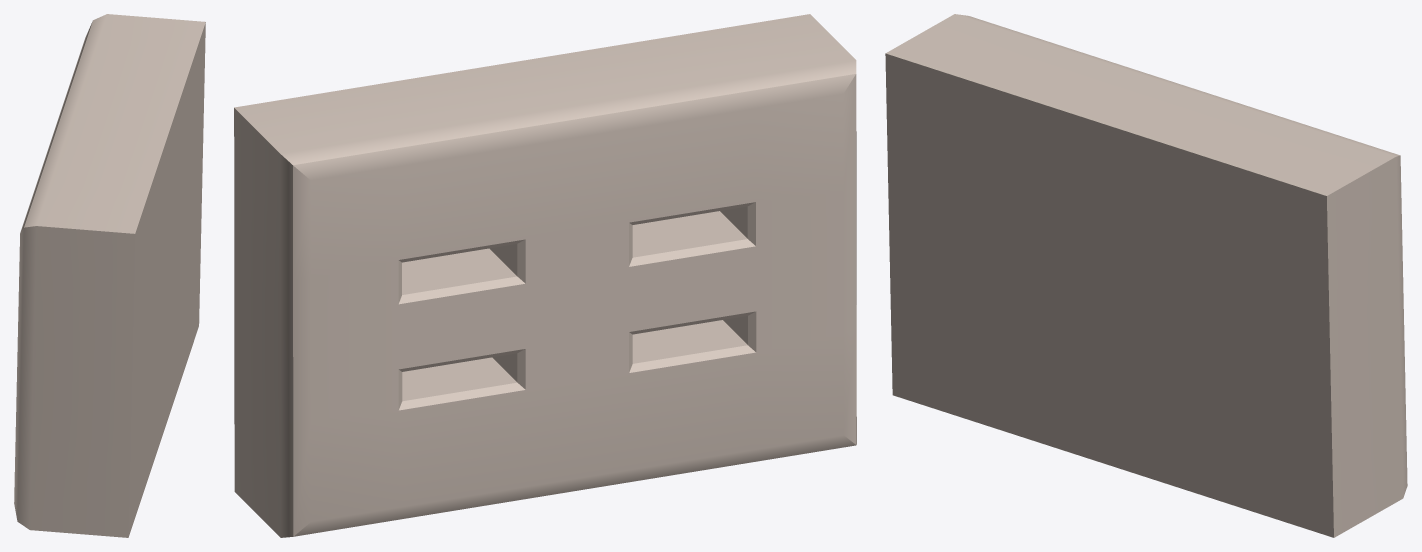
Rendered from enchufe_luz_camaras.fbx.
3 views of the same model, side by side, from view 1: azimuth 30°, elevation 25°; view 2: azimuth 150°, elevation 25°; view 3: azimuth 270°, elevation 25° (orthographic). The views are drawn at different scales.
Visible parts, largest first — view 1: pCube48; view 2: pCube48; view 3: pCube48.
Part boxes in pixels (x1=…): pCube48: x1=14, y1=14, x2=205, y2=537; pCube48: x1=234, y1=14, x2=856, y2=537; pCube48: x1=885, y1=14, x2=1407, y2=537.
Bounding box in the file's own units: 13.3 × 11.47 × 15.52.
